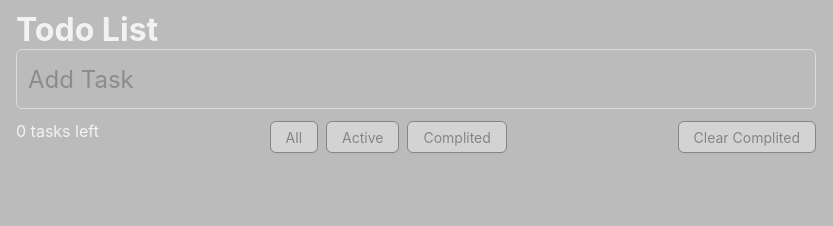
Scenario: Task test › add todo
Step 1. Type "CLEAN THE DISHES" into the field with test id "addTask" → (416, 79), box left=16, top=49, right=816, bottom=109
Then press Enter
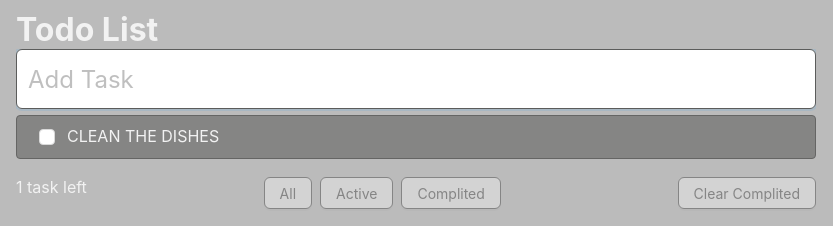
Check: the text "CLEAN THE DISHES" is shown, box left=67, top=126, right=219, bottom=148
